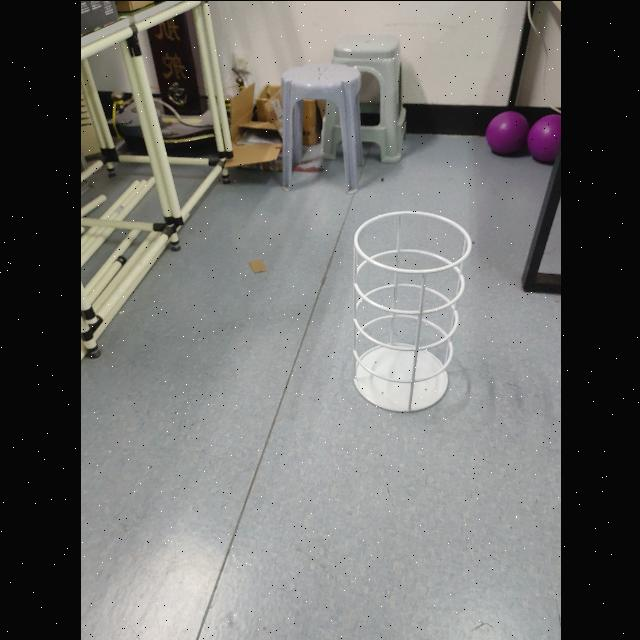S: (344, 206, 474, 416)
